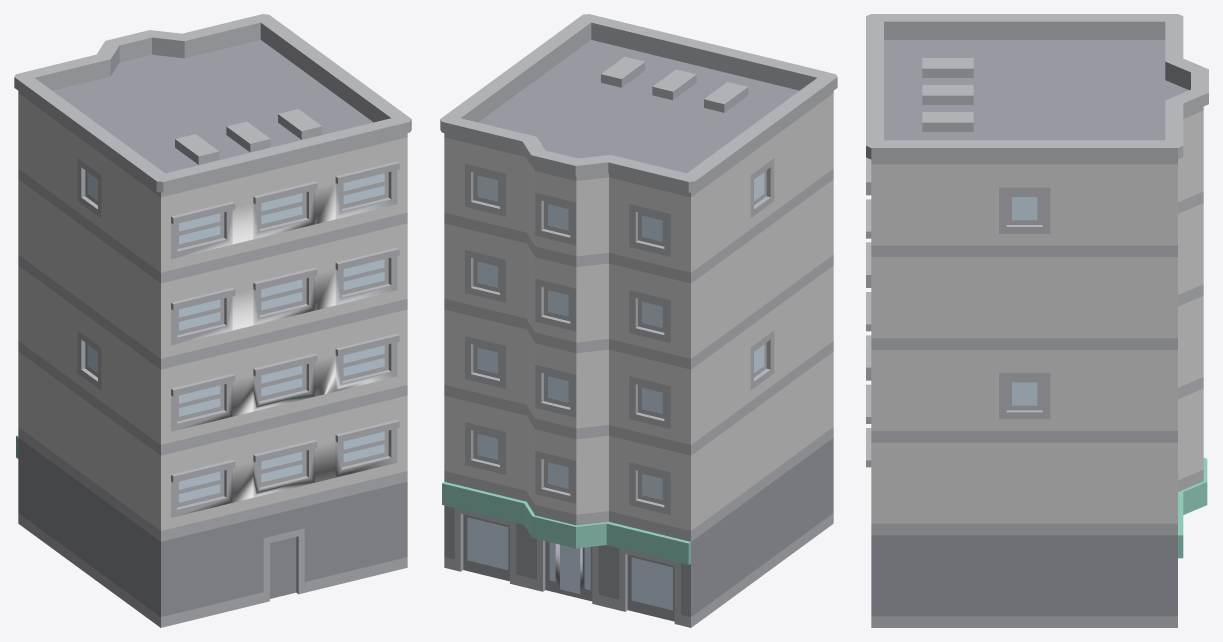
The model's file is largee.fbx.
3 views of the same model, side by side, from view 1: azimuth 30°, elevation 25°; view 2: azimuth 150°, elevation 25°; view 3: azimuth 270°, elevation 25° (orthographic). The views are drawn at different scales.
Parts seen in each view (by area): view 1: large_buildingE; view 2: large_buildingE; view 3: large_buildingE.
Part boxes in pixels (x1,y1,x2,y2): large_buildingE: [14, 14, 411, 627]; large_buildingE: [440, 14, 837, 627]; large_buildingE: [866, 14, 1208, 627].
Bounding box in the file's own units: 248 × 416 × 268.
